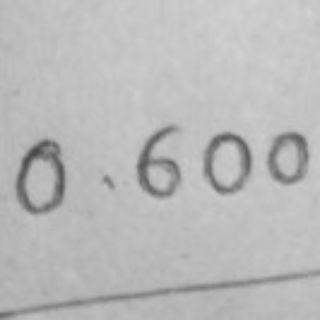.: (98, 172, 116, 194)
0: (14, 138, 68, 216), (201, 131, 254, 195), (266, 130, 311, 187)
6: (136, 123, 185, 200)
